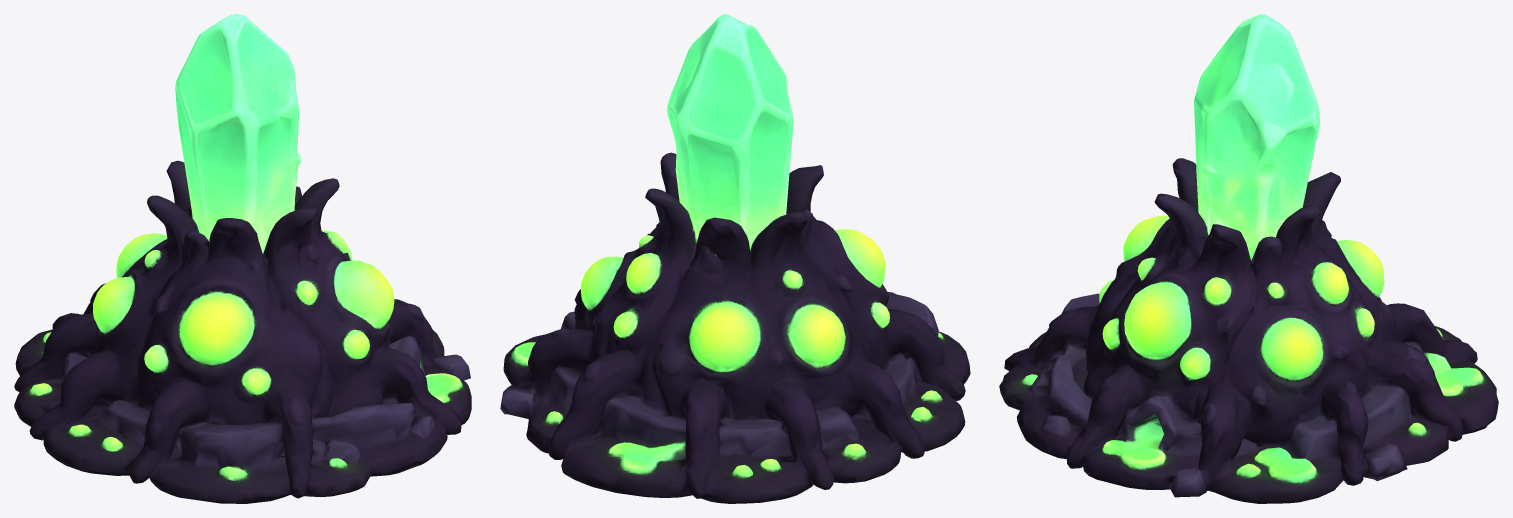
Rendered from ev_nexus-C4h94SBD.glb.
3 views of the same model, side by side, from view 1: azimuth 30°, elevation 25°; view 2: azimuth 150°, elevation 25°; view 3: azimuth 270°, elevation 25° (orthographic).
Visible parts, largest first — view 1: tripo_node_6b3f44da-745f-450b-a97f-84ca537007ae; view 2: tripo_node_6b3f44da-745f-450b-a97f-84ca537007ae; view 3: tripo_node_6b3f44da-745f-450b-a97f-84ca537007ae.
Boxes of the visible parts, x1,y1,x2,y2 form: tripo_node_6b3f44da-745f-450b-a97f-84ca537007ae: (14, 14, 471, 503); tripo_node_6b3f44da-745f-450b-a97f-84ca537007ae: (500, 14, 970, 503); tripo_node_6b3f44da-745f-450b-a97f-84ca537007ae: (999, 14, 1498, 503).
Bounding box in the file's own units: 0.9523 × 0.8581 × 1.
1 material, 1 textured.
